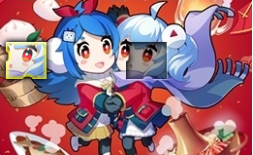gap: (126, 41, 167, 80)
